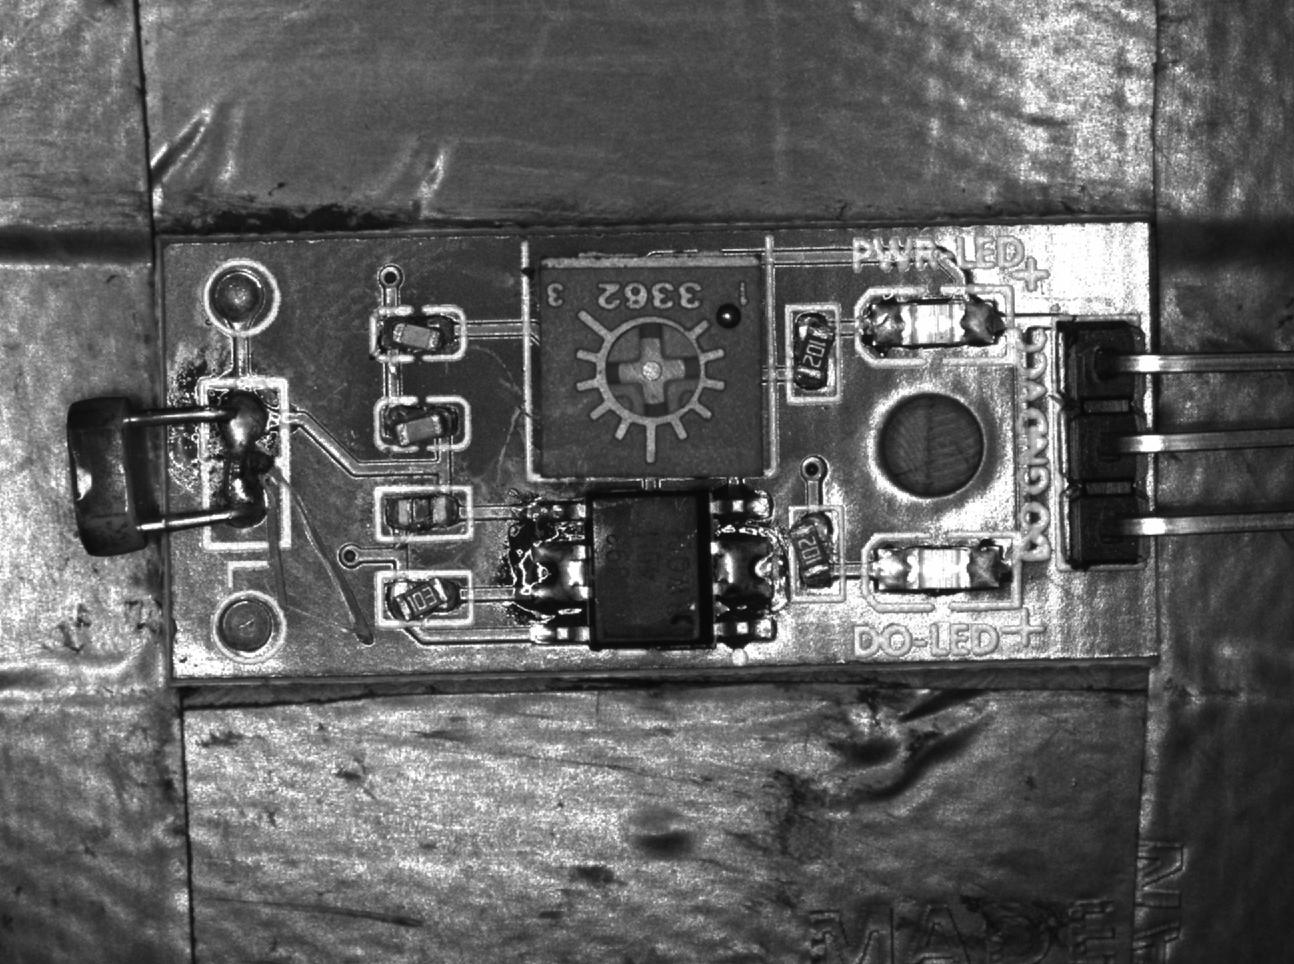bridge: (196, 381, 286, 549), (714, 525, 779, 613), (525, 536, 592, 610)
lifted: (787, 506, 842, 599), (378, 573, 474, 626), (785, 311, 838, 398), (378, 401, 468, 450), (379, 310, 464, 356)
miss: (376, 485, 475, 543)
